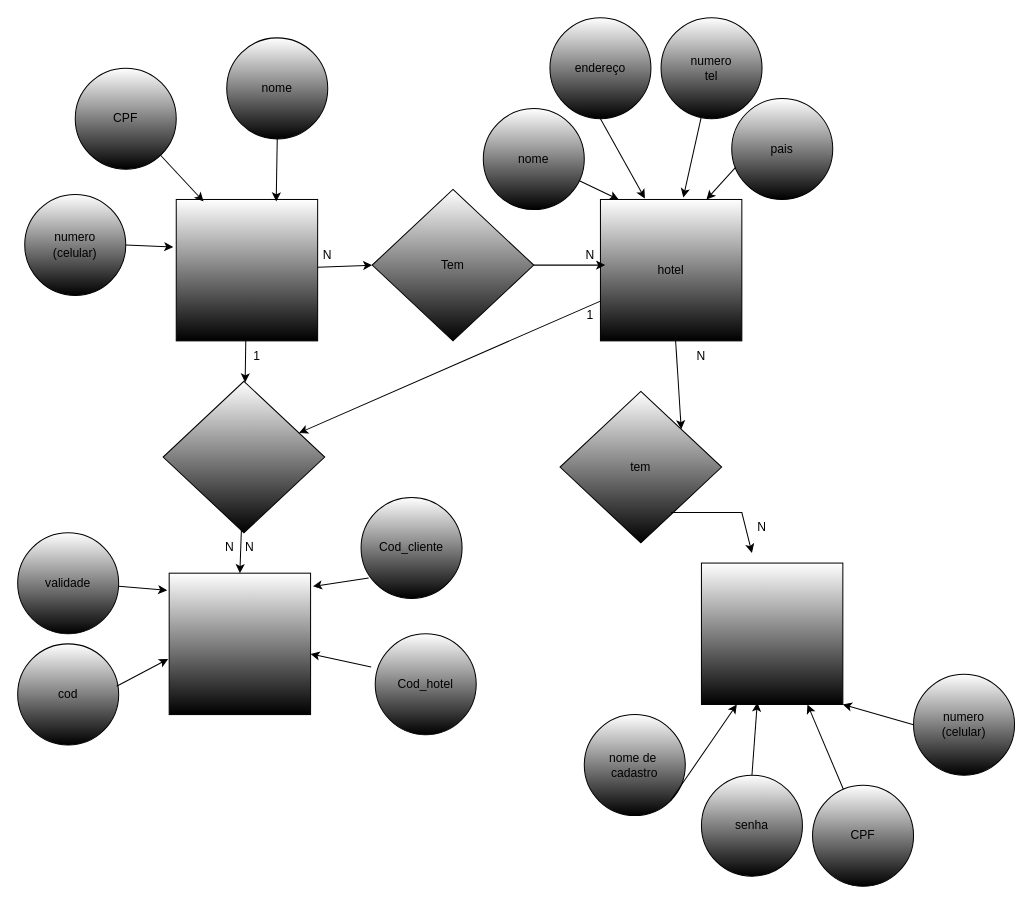
The diagram is 1032 pixels wide and 904 high, and some of its shapes have lost their labels. The centre of each missing label's shape, as x and y in pixels:
cliente: the point at 246,269
faz: the point at 243,456
reserva: the point at 239,643
usuario: the point at 771,633
